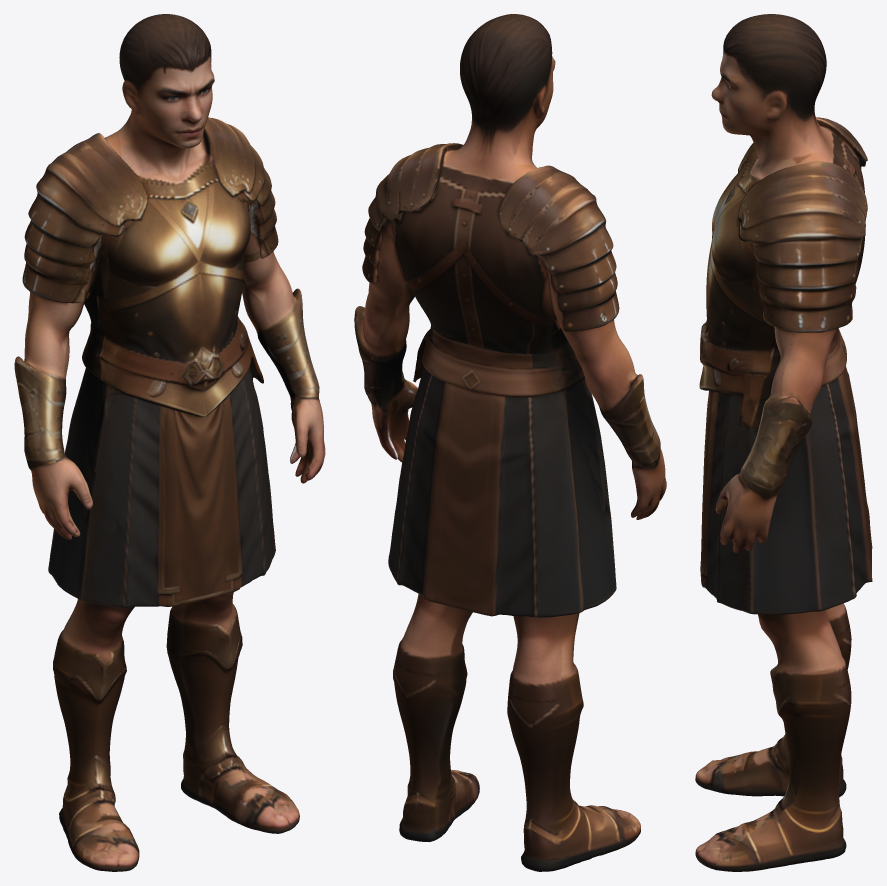
Rendered from light_npc.glb.
3 views of the same model, side by side, from view 1: azimuth 30°, elevation 25°; view 2: azimuth 150°, elevation 25°; view 3: azimuth 270°, elevation 25° (orthographic).
Visible parts, largest first — view 1: model_0; view 2: model_0; view 3: model_0.
Boxes of the visible parts, <box> form: model_0: <box>14,14,325,871</box>; model_0: <box>354,14,666,871</box>; model_0: <box>695,14,872,871</box>.
Size of the model in its own units: 0.3746 by 1 by 0.1999.
Materials: 1 (1 with a texture image).
